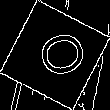O_W: (24, 26, 86, 84)
